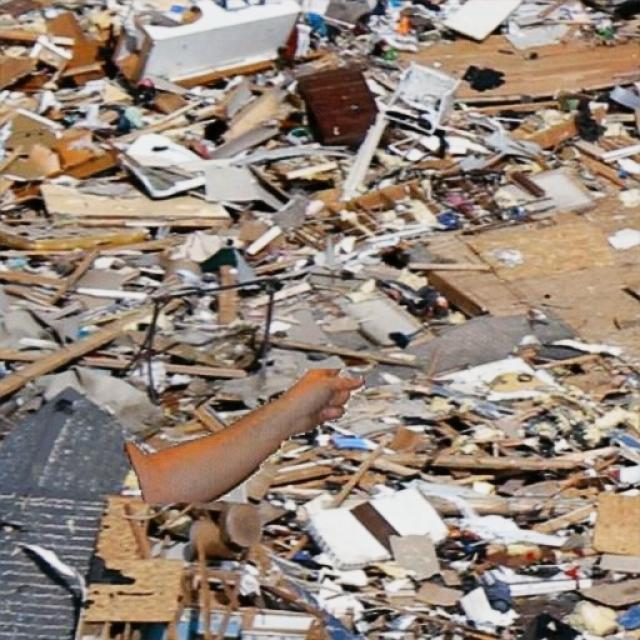Person in Rubble: (124, 368, 366, 502)
